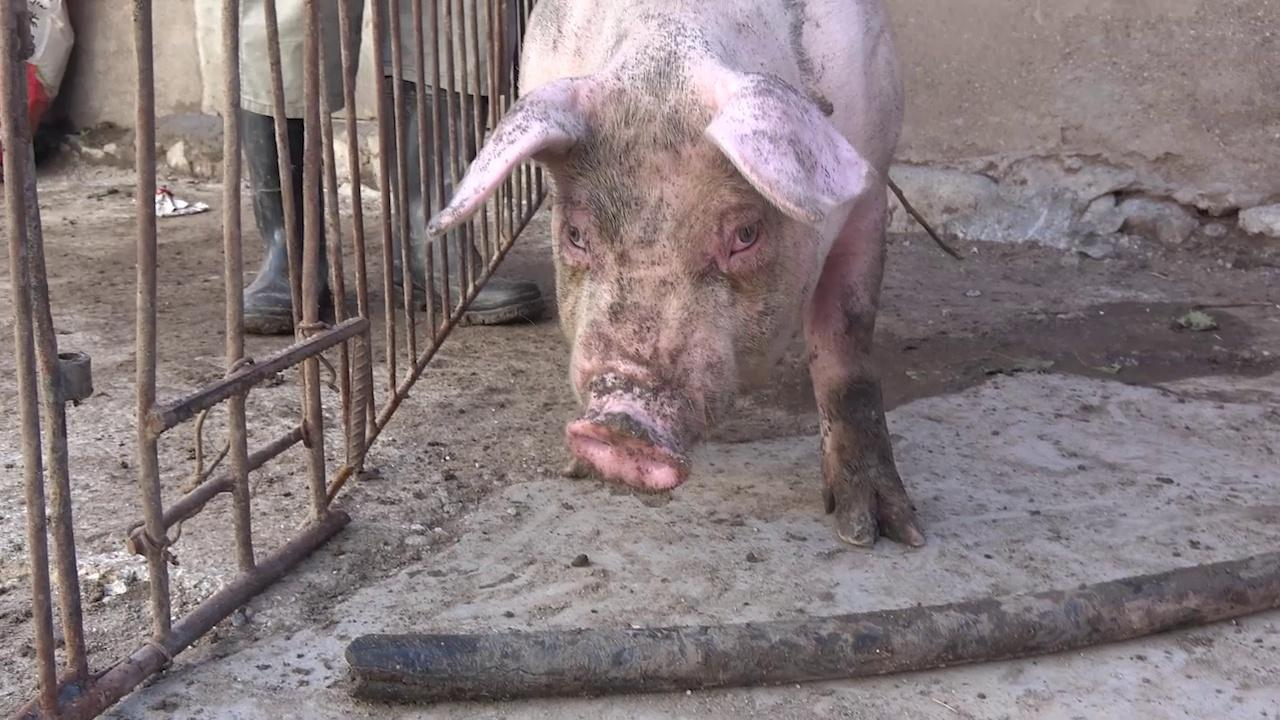Face: (426, 83, 878, 506)
